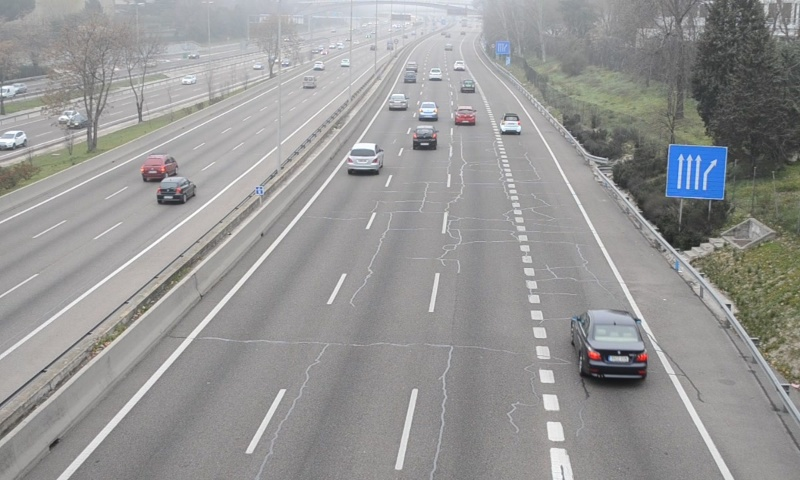car: (572, 308, 648, 384), (346, 141, 384, 172), (413, 124, 438, 150), (499, 112, 522, 136), (454, 105, 477, 127), (418, 100, 439, 122), (387, 92, 408, 110), (459, 78, 475, 94)
